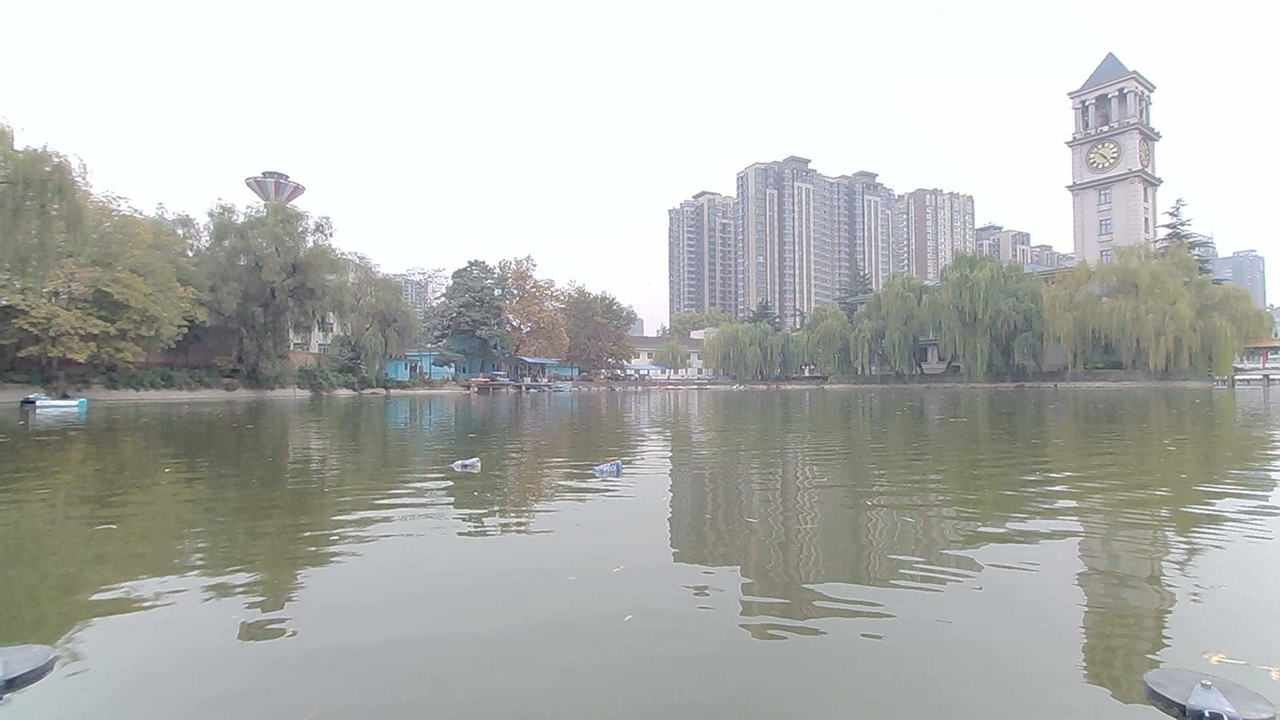bottle: (446, 447, 485, 473), (594, 462, 627, 479)
